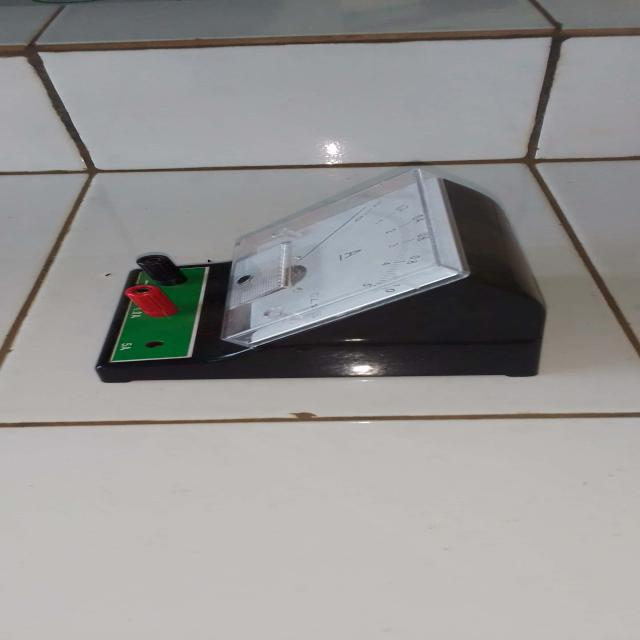Ammeter Analog: (75, 166, 551, 382)
